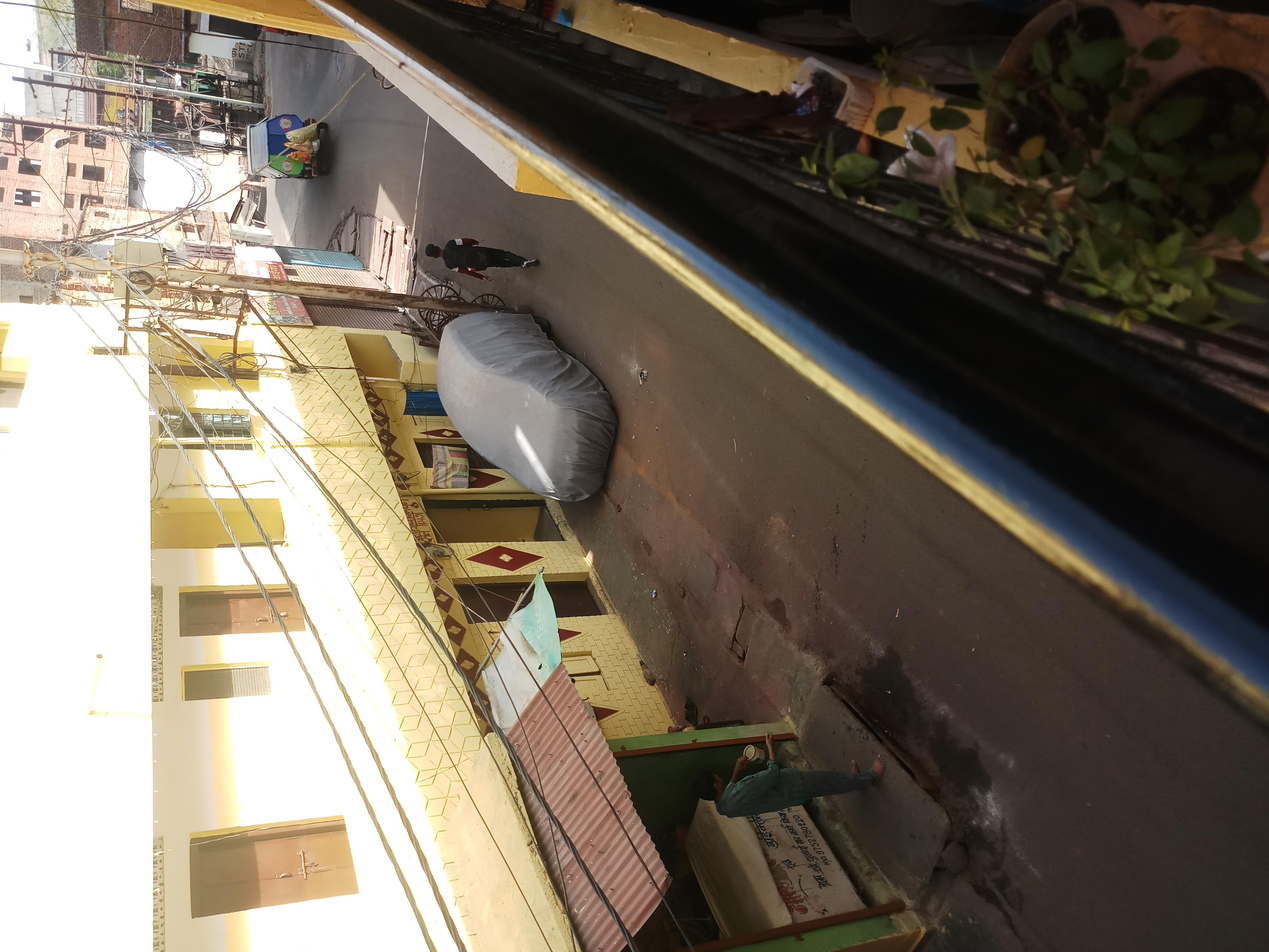Auto: (992, 171, 1172, 263)
